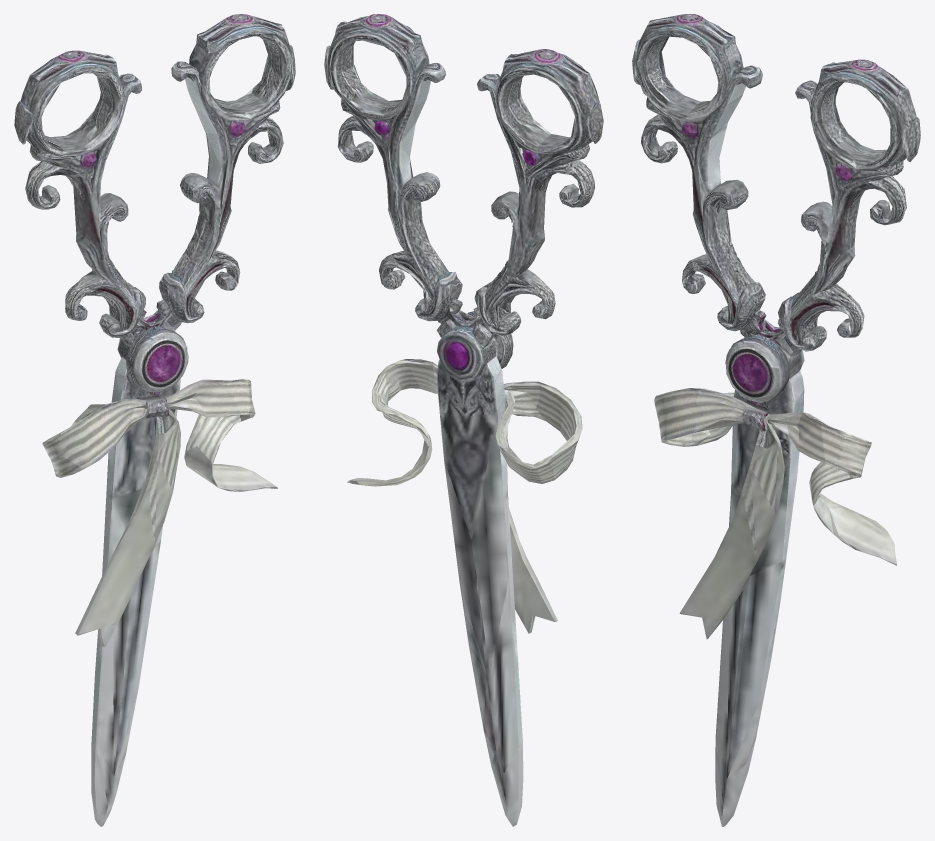
File: forbici.glb
3 renders of one model, left to right at view 1: azimuth 30°, elevation 25°; view 2: azimuth 150°, elevation 25°; view 3: azimuth 330°, elevation 25°, orthographic. The views are drawn at different scales.
Size of the model in its own units: 0.7047 by 1.9 by 0.1809.
Materials: 1 (1 with a texture image).
